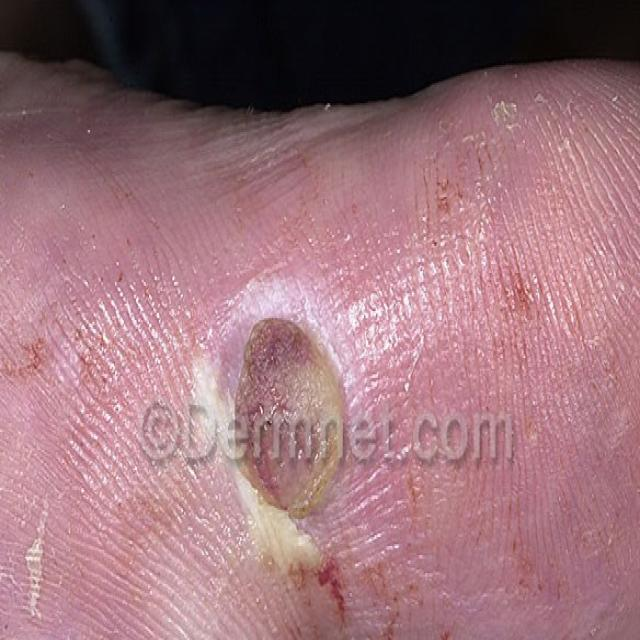Vascular Tumors: (198, 280, 372, 606)
